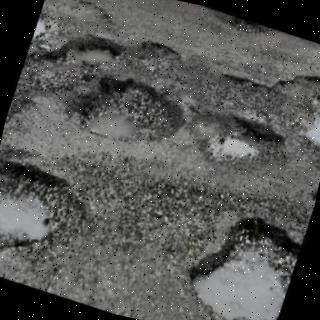pothole: (189, 74, 320, 169), (190, 218, 300, 320), (66, 78, 182, 143), (0, 159, 82, 248), (188, 104, 284, 165), (27, 37, 125, 79), (130, 41, 182, 78), (44, 0, 114, 24), (34, 8, 57, 37)
